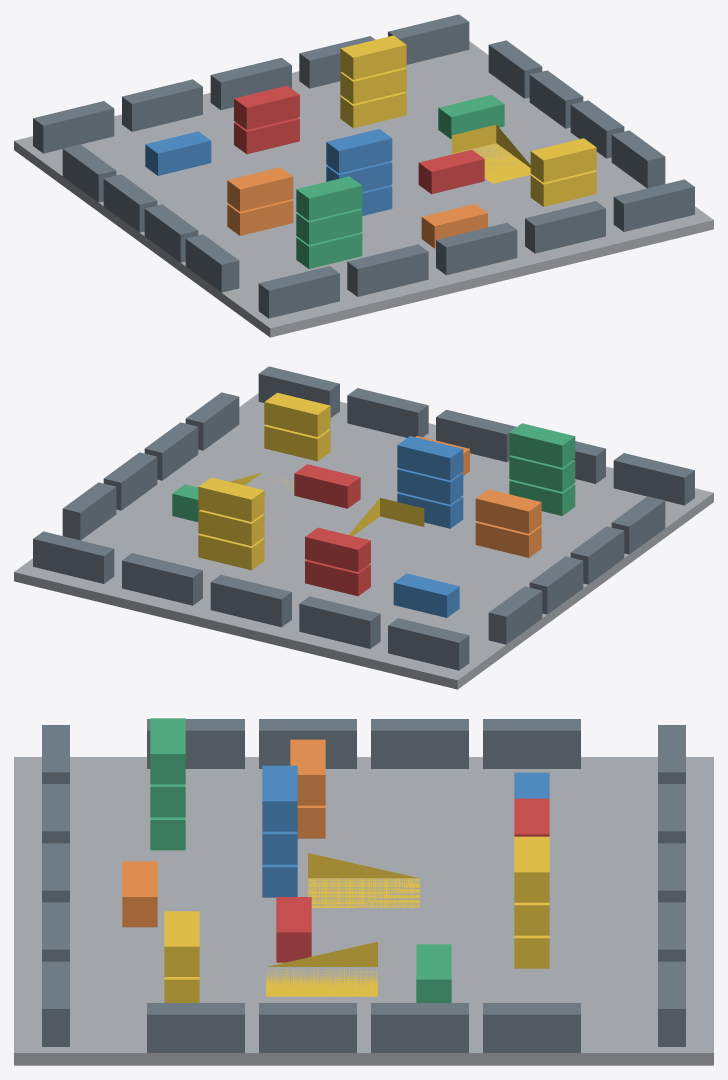
The model's file is gpt-arena-de-containers.glb.
3 views of the same model, one above another, from view 1: azimuth 30°, elevation 25°; view 2: azimuth 150°, elevation 25°; view 3: azimuth 270°, elevation 25° (orthographic). The views are drawn at different scales.
Parts seen in each view (by area): view 1: Arena de Containers-000, Arena de Containers-004, Arena de Containers-006, Arena de Containers-002, Arena de Containers-010, Arena de Containers-001, Arena de Containers-003, Arena de Containers-008, Arena de Containers-039, Arena de Containers-009, Arena de Containers-005, Arena de Containers-019 (+27 smaller); view 2: Arena de Containers-000, Arena de Containers-003, Arena de Containers-005, Arena de Containers-001, Arena de Containers-009, Arena de Containers-002, Arena de Containers-007, Arena de Containers-008, Arena de Containers-006, Arena de Containers-010, Arena de Containers-036, Arena de Containers-031 (+26 smaller); view 3: Arena de Containers-000, Arena de Containers-011, Arena de Containers-012, Arena de Containers-013, Arena de Containers-014, Arena de Containers-016, Arena de Containers-018, Arena de Containers-038, Arena de Containers-039, Arena de Containers-015, Arena de Containers-017, Arena de Containers-024 (+27 smaller).
Boxes of the visible parts, x1,y1,x2,y2 form: Arena de Containers-000: [14, 41, 713, 337]; Arena de Containers-004: [347, 244, 428, 296]; Arena de Containers-006: [436, 223, 517, 275]; Arena de Containers-002: [258, 266, 339, 318]; Arena de Containers-010: [613, 179, 694, 231]; Arena de Containers-001: [33, 101, 114, 153]; Arena de Containers-003: [122, 79, 202, 131]; Arena de Containers-008: [525, 201, 605, 253]; Arena de Containers-039: [452, 124, 531, 183]; Arena de Containers-009: [388, 14, 469, 64]; Arena de Containers-005: [210, 57, 291, 110]; Arena de Containers-019: [145, 131, 211, 175]; Arena de Containers-000: [14, 393, 713, 689]; Arena de Containers-003: [299, 596, 380, 648]; Arena de Containers-005: [210, 575, 291, 627]; Arena de Containers-001: [388, 618, 469, 670]; Arena de Containers-009: [33, 531, 114, 583]; Arena de Containers-002: [613, 453, 694, 505]; Arena de Containers-007: [122, 553, 202, 605]; Arena de Containers-008: [347, 388, 428, 437]; Arena de Containers-006: [436, 409, 516, 462]; Arena de Containers-010: [258, 366, 339, 417]; Arena de Containers-036: [509, 423, 575, 467]; Arena de Containers-031: [294, 464, 360, 508]; Arena de Containers-000: [14, 757, 713, 1065]; Arena de Containers-011: [483, 719, 580, 768]; Arena de Containers-012: [483, 1003, 580, 1052]; Arena de Containers-013: [371, 719, 468, 768]; Arena de Containers-014: [371, 1003, 468, 1052]; Arena de Containers-016: [259, 1003, 356, 1052]; Arena de Containers-018: [147, 1003, 244, 1052]; Arena de Containers-038: [308, 853, 419, 907]; Arena de Containers-039: [266, 941, 377, 996]; Arena de Containers-015: [259, 719, 356, 768]; Arena de Containers-017: [147, 719, 244, 768]; Arena de Containers-024: [514, 836, 549, 902].
Size of the model in its own units: 50 by 8.7 by 50.
